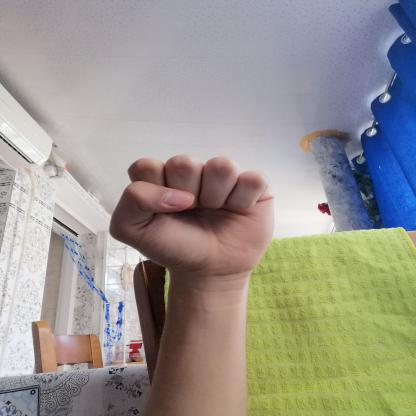SAD: (93, 144, 298, 286)
